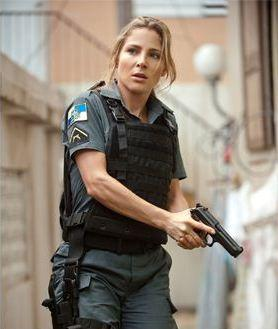Gun: (191, 202, 245, 259)
